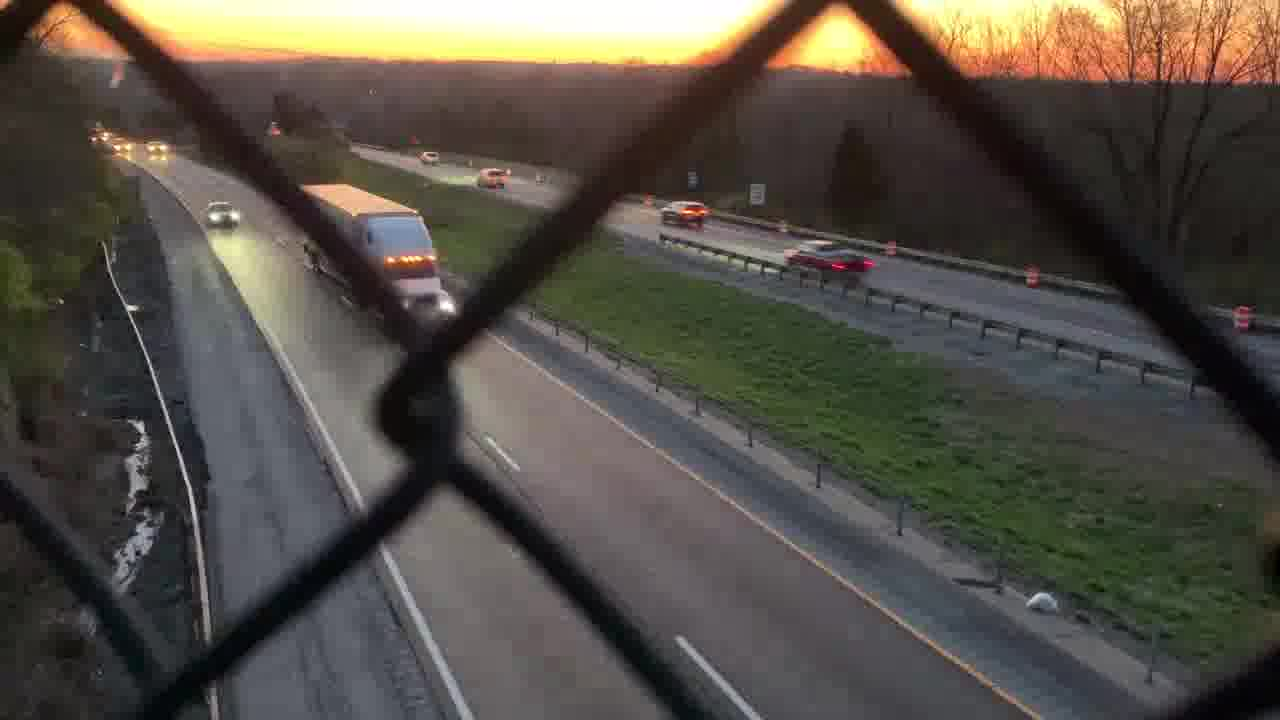heavyTruck: (291, 177, 457, 330)
largeCar: (659, 200, 706, 228)
lightTruck: (782, 238, 874, 287)
